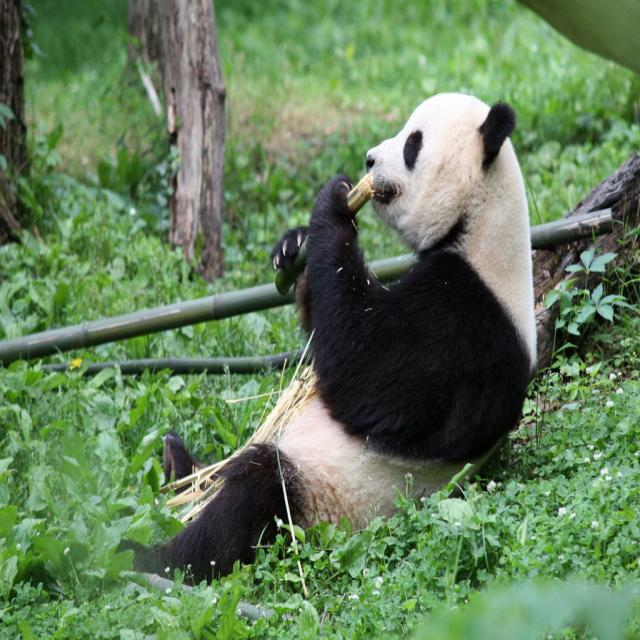panda: (115, 90, 540, 584)
